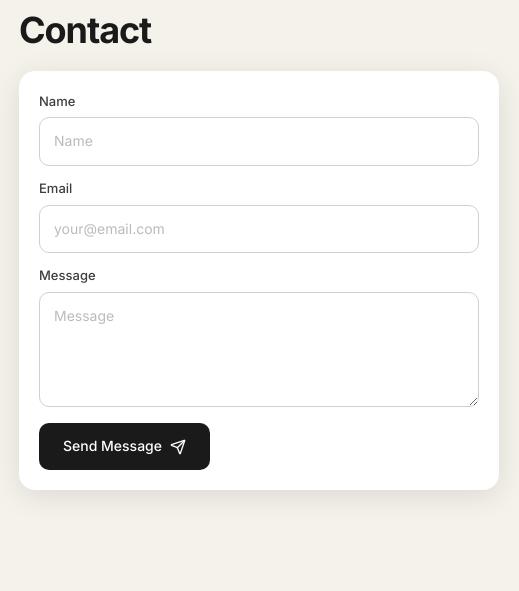
ContactPage › validation › shows error for short name
The image size is (519, 591).
Type "A" into the field labelled "Name" at (259, 142), box [39,117,479,166]
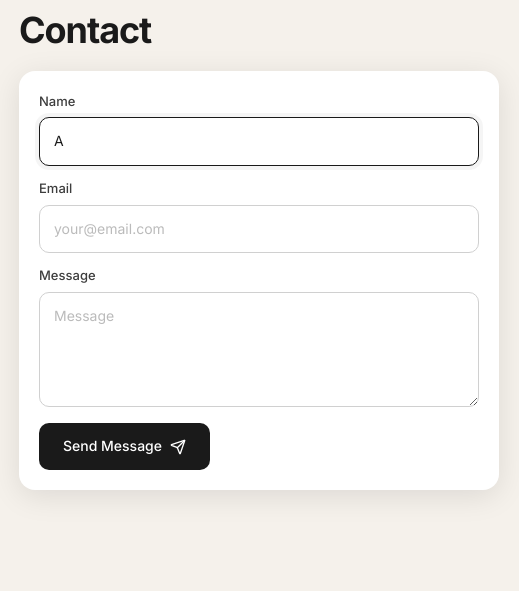
Click the button "Send Message" at (124, 446), box [39,423,210,470]
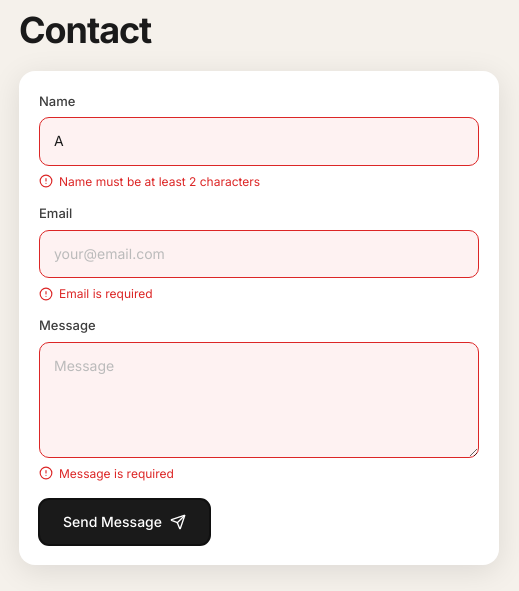
Expected: the text "Name must be at least 2 characters" is shown, [39,174,260,189]
